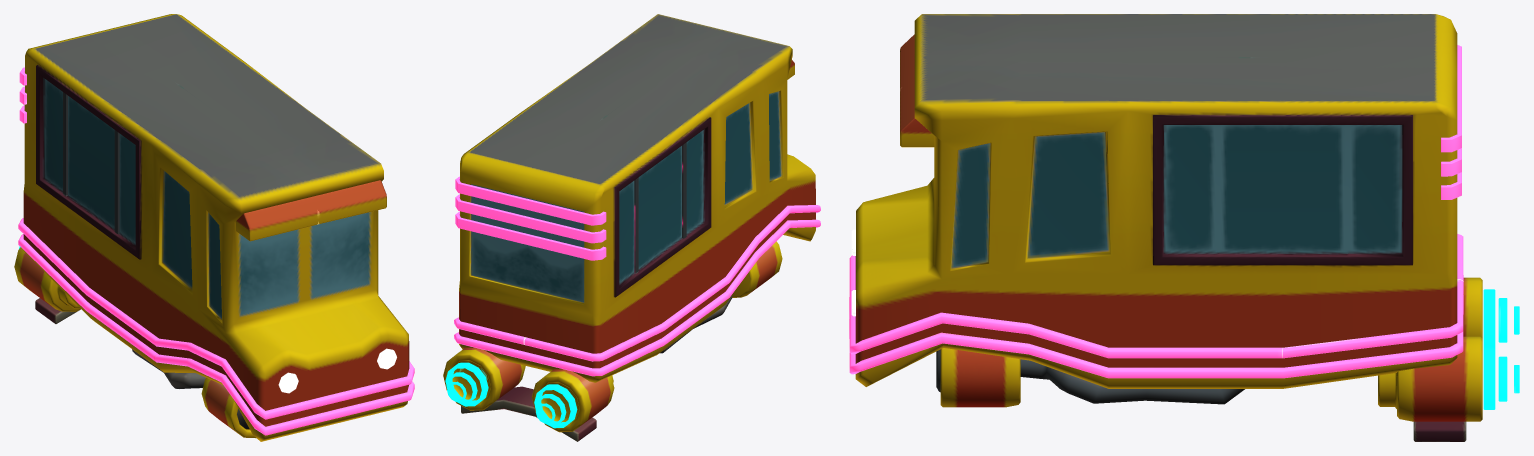
File: Car_3.fbx
3 views of the same model, side by side, from view 1: azimuth 30°, elevation 25°; view 2: azimuth 150°, elevation 25°; view 3: azimuth 270°, elevation 25° (orthographic). The views are drawn at different scales.
Visible parts, largest first — view 1: Car_3; view 2: Car_3; view 3: Car_3.
Part boxes in pixels (bbox=[...]): Car_3: bbox=[14, 14, 414, 441]; Car_3: bbox=[443, 14, 820, 441]; Car_3: bbox=[849, 14, 1519, 441].
Bounding box in the file's own units: 425 × 684 × 1211.
